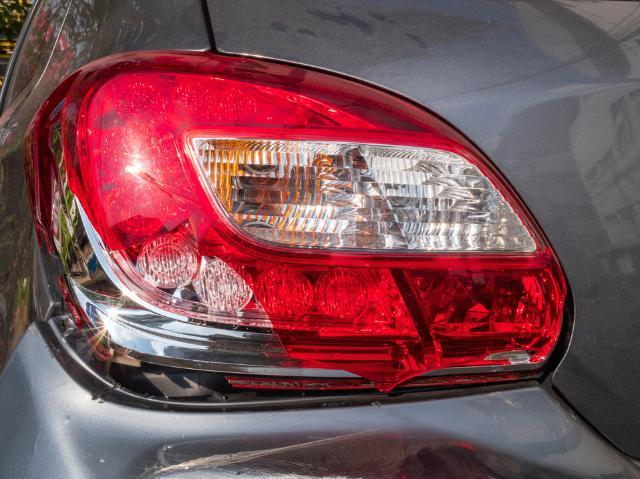Light: (47, 62, 552, 401)
